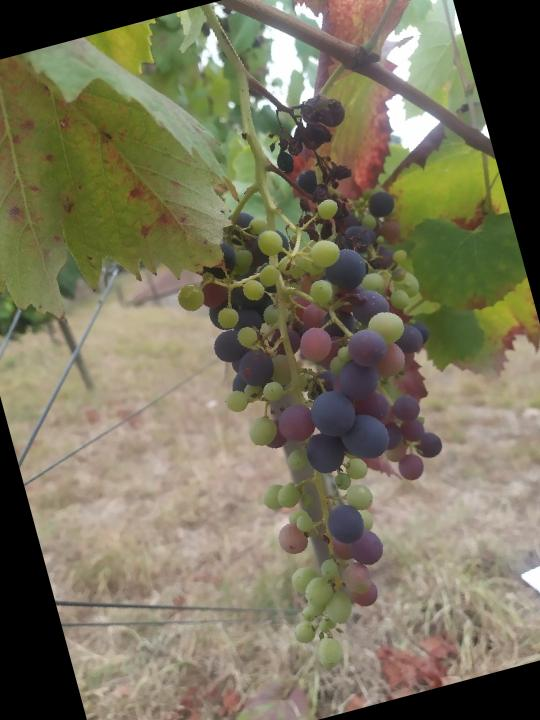grape: (158, 171, 511, 688), (257, 90, 379, 248)
